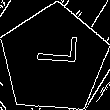L_W: (28, 42, 80, 77)
